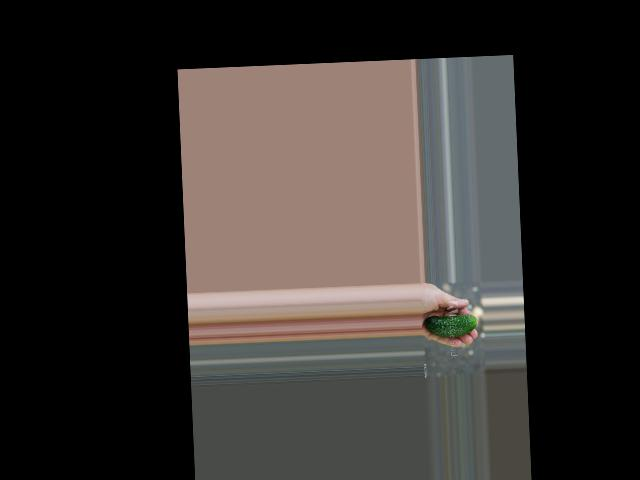cucumber: (424, 314, 476, 339)
